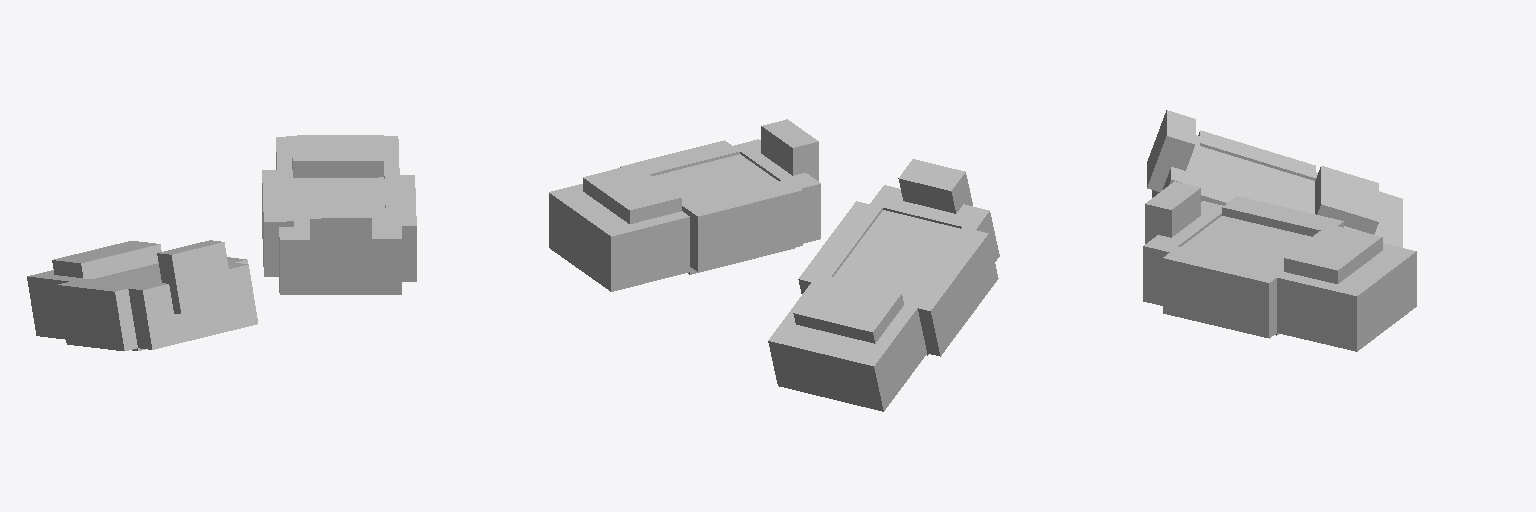
The model's file is x01_boots_broken.obj.
The picture shows the model from 3 angles: view 1: azimuth 30°, elevation 25°; view 2: azimuth 150°, elevation 25°; view 3: azimuth 270°, elevation 25°; orthographic projection.
Visible parts, largest first — view 1: Boots; view 2: Boots; view 3: Boots.
Part boxes in pixels (bbox=[...]): Boots: bbox=[27, 135, 416, 350]; Boots: bbox=[549, 119, 999, 411]; Boots: bbox=[1143, 110, 1416, 351].
Size of the model in its own units: 0.8533 by 0.3476 by 0.5584.